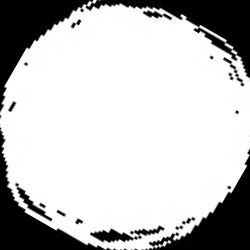spot: (2, 3, 249, 248)
